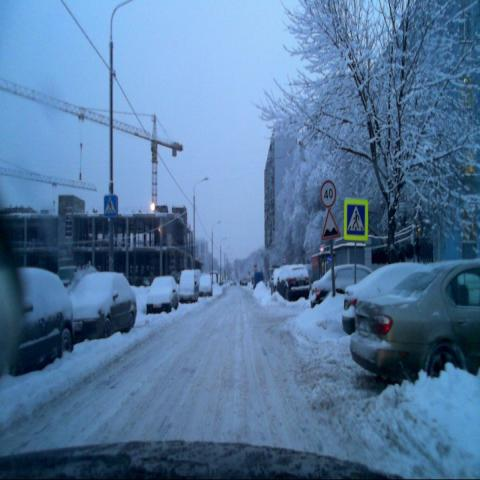1_16: (321, 209, 340, 239)
